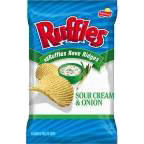grozi_117: (26, 0, 118, 144)
